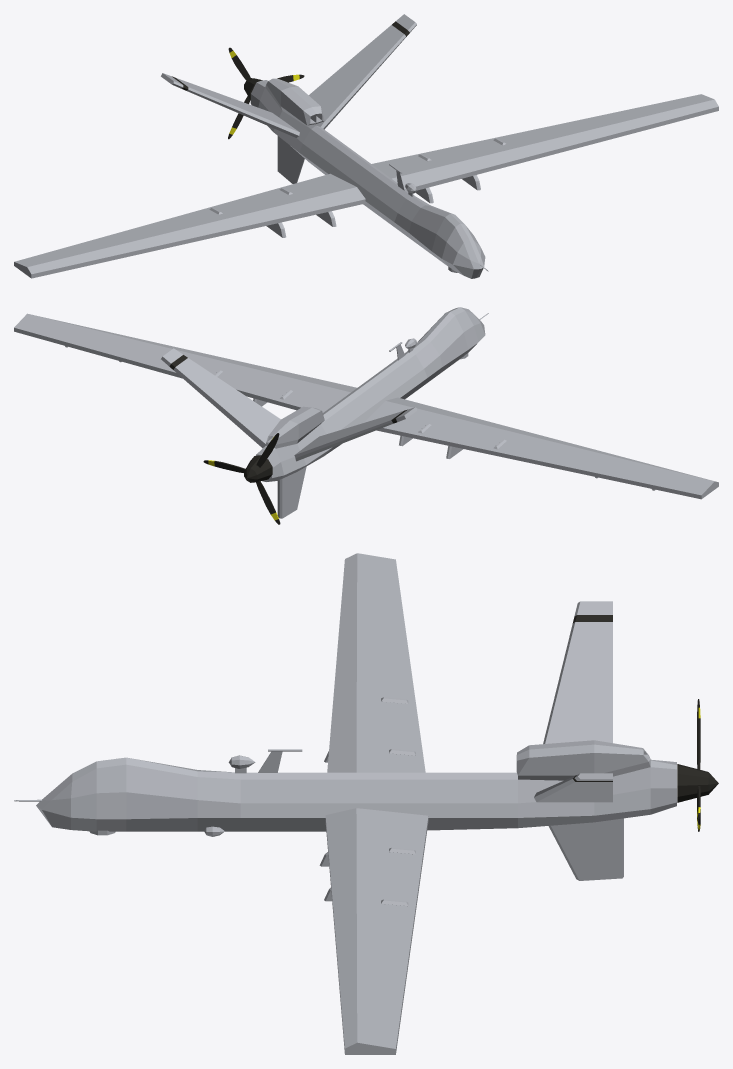
3 views of the same model, one above another, from view 1: azimuth 30°, elevation 25°; view 2: azimuth 150°, elevation 25°; view 3: azimuth 270°, elevation 25° (orthographic). The views are drawn at different scales.
Visible parts, largest first — view 1: Cube, Propellor; view 2: Cube, Propellor; view 3: Cube, Propellor.
Part boxes in pixels (box(x1,y1,x2,y2)): Cube: box(14, 14, 718, 278); Propellor: box(228, 47, 304, 139); Cube: box(14, 307, 718, 518); Propellor: box(203, 433, 280, 524); Cube: box(14, 553, 676, 1054); Propellor: box(677, 699, 718, 831).
Size of the model in its own units: 19.95 by 3.65 by 12.14.
3 materials, 3 textured.
